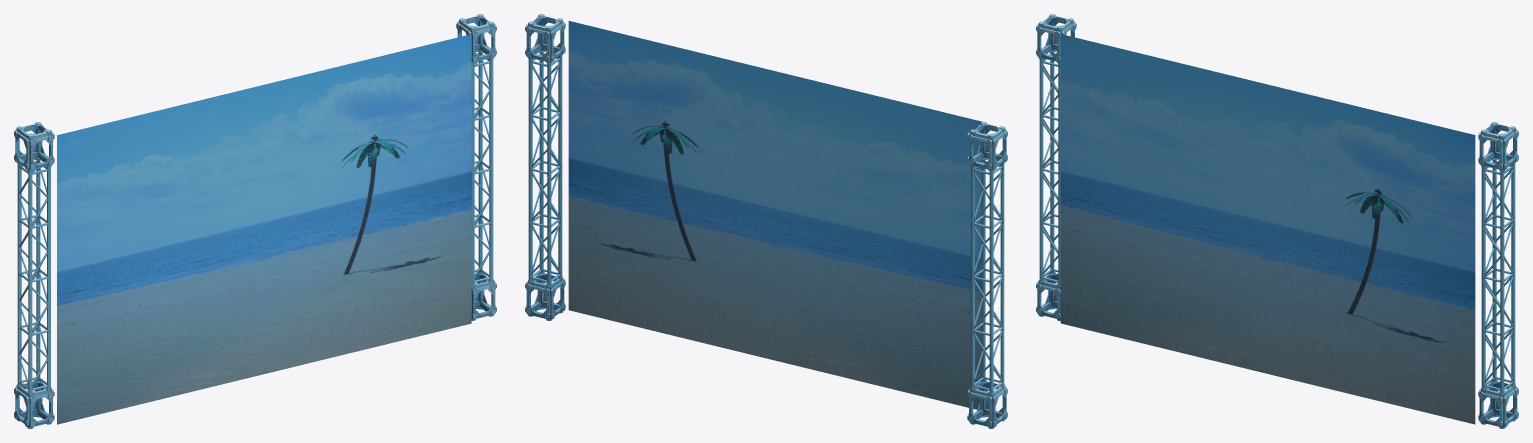
File: BeachStage.glb
The picture shows the model from 3 angles, left to right: view 1: azimuth 30°, elevation 25°; view 2: azimuth 150°, elevation 25°; view 3: azimuth 330°, elevation 25°; orthographic projection.
Parts seen in each view (by area): view 1: maarten-van-den-heuvel-7RyfX2BHoXU-unsplash.001; view 2: maarten-van-den-heuvel-7RyfX2BHoXU-unsplash.001; view 3: maarten-van-den-heuvel-7RyfX2BHoXU-unsplash.001.
Boxes of the visible parts, x1=… form: maarten-van-den-heuvel-7RyfX2BHoXU-unsplash.001: x1=14, y1=14, x2=496, y2=428; maarten-van-den-heuvel-7RyfX2BHoXU-unsplash.001: x1=525, y1=14, x2=1007, y2=428; maarten-van-den-heuvel-7RyfX2BHoXU-unsplash.001: x1=1036, y1=14, x2=1518, y2=428.
Bounding box in the file's own units: 3.22 × 1.92 × 0.2021.
Materials: 2 (2 with a texture image).
